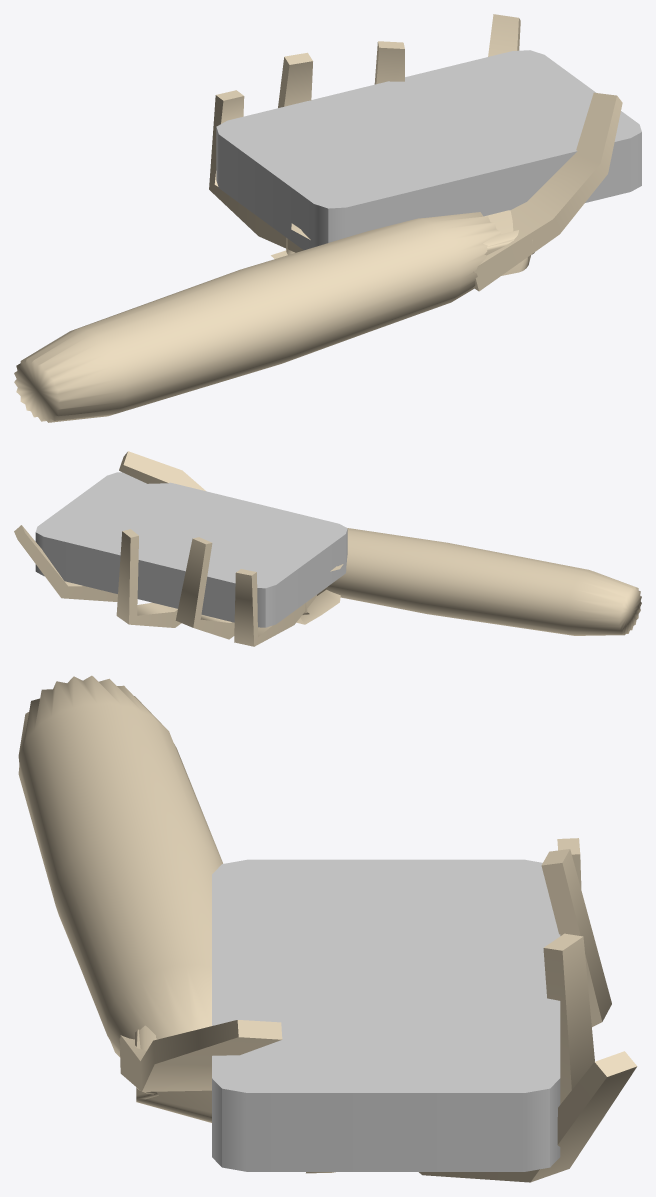
Rendered from handPhoneExport (1).fbx.
3 renders of one model, top to bottom at view 1: azimuth 30°, elevation 25°; view 2: azimuth 150°, elevation 25°; view 3: azimuth 270°, elevation 25°, orthographic. The views are drawn at different scales.
Parts seen in each view (by area): view 1: pCylinder2, pCube9; view 2: pCylinder2, pCube9; view 3: pCube9, pCylinder2.
Part boxes in pixels (bbox=[...]): pCylinder2: bbox=[14, 14, 622, 422]; pCube9: bbox=[216, 50, 641, 250]; pCylinder2: bbox=[14, 451, 641, 646]; pCube9: bbox=[35, 472, 347, 627]; pCube9: bbox=[212, 859, 560, 1171]; pCylinder2: bbox=[18, 675, 637, 1182].
Size of the model in its own units: 0.7767 by 0.1739 by 0.4263.
